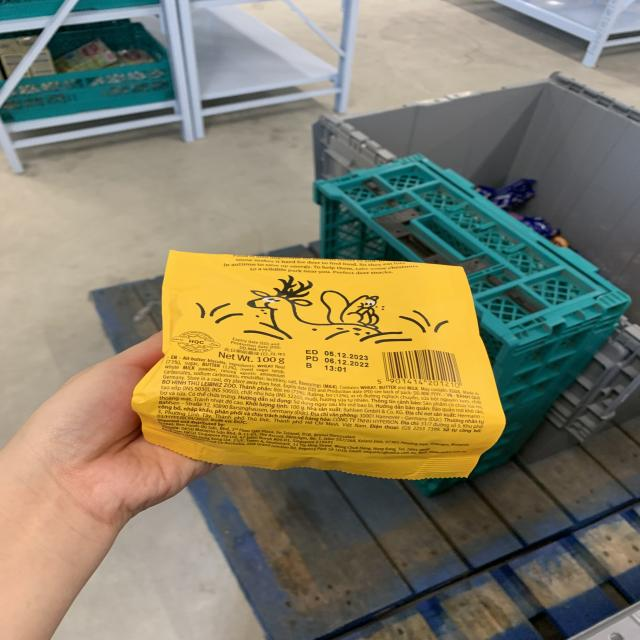object_name: (170, 251, 477, 478)
